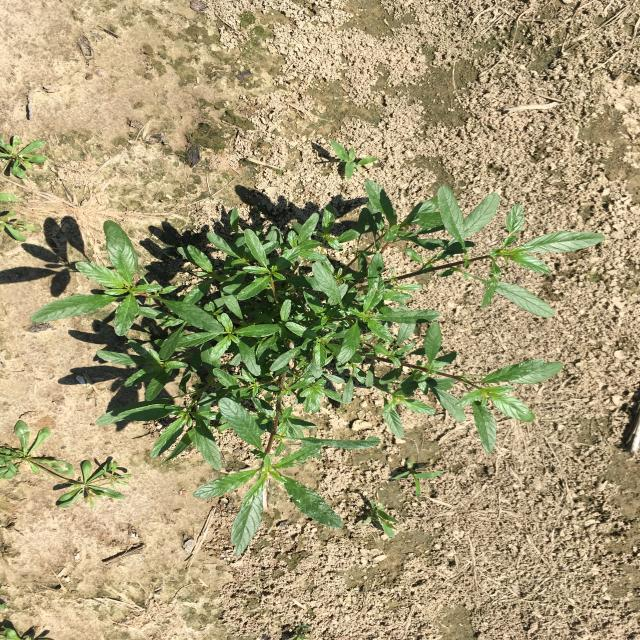Carpetweed: (0, 421, 132, 509), (0, 134, 48, 178), (0, 211, 38, 242)
Waterhemp: (28, 179, 607, 557)
